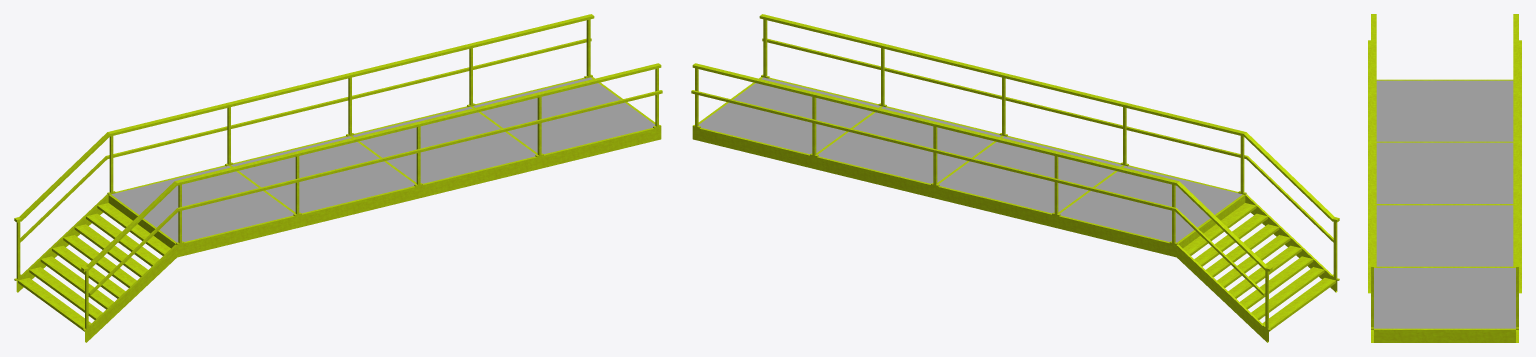
The model's file is Bridge_01.fbx.
3 views of the same model, side by side, from view 1: azimuth 30°, elevation 25°; view 2: azimuth 150°, elevation 25°; view 3: azimuth 270°, elevation 25° (orthographic). The views are drawn at different scales.
Visible parts, largest first — view 1: Bridge_01; view 2: Bridge_01; view 3: Bridge_01.
Boxes of the visible parts, box(x1,y1,x2,y2) form: Bridge_01: box(14, 14, 662, 342); Bridge_01: box(691, 14, 1339, 342); Bridge_01: box(1368, 14, 1521, 342).
Size of the model in its own units: 12.21 by 2.78 by 2.66.
